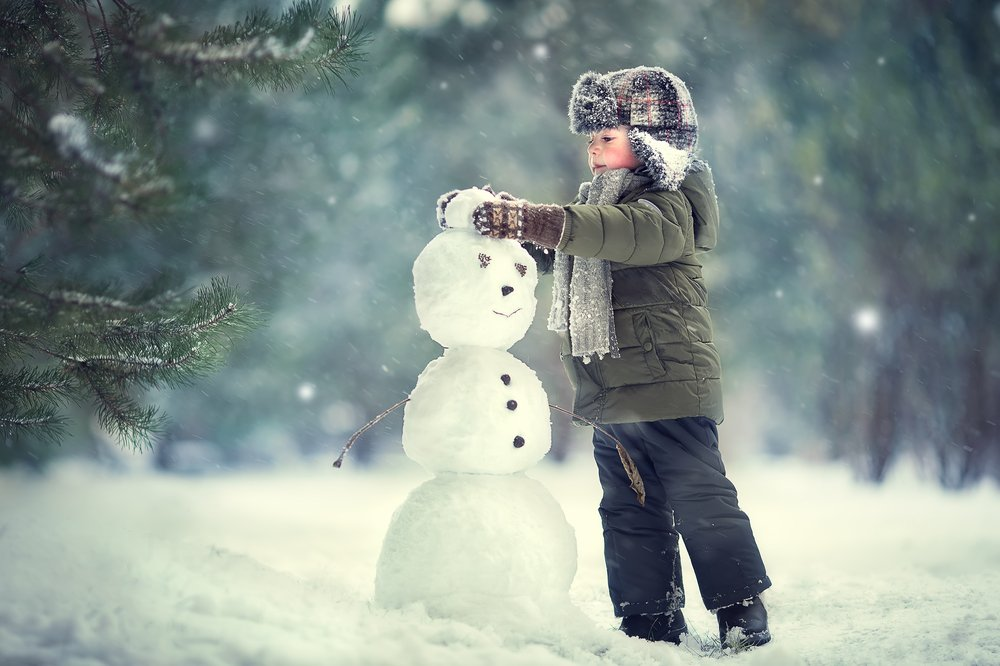person: (430, 62, 775, 654)
person-like: (350, 216, 611, 619)
